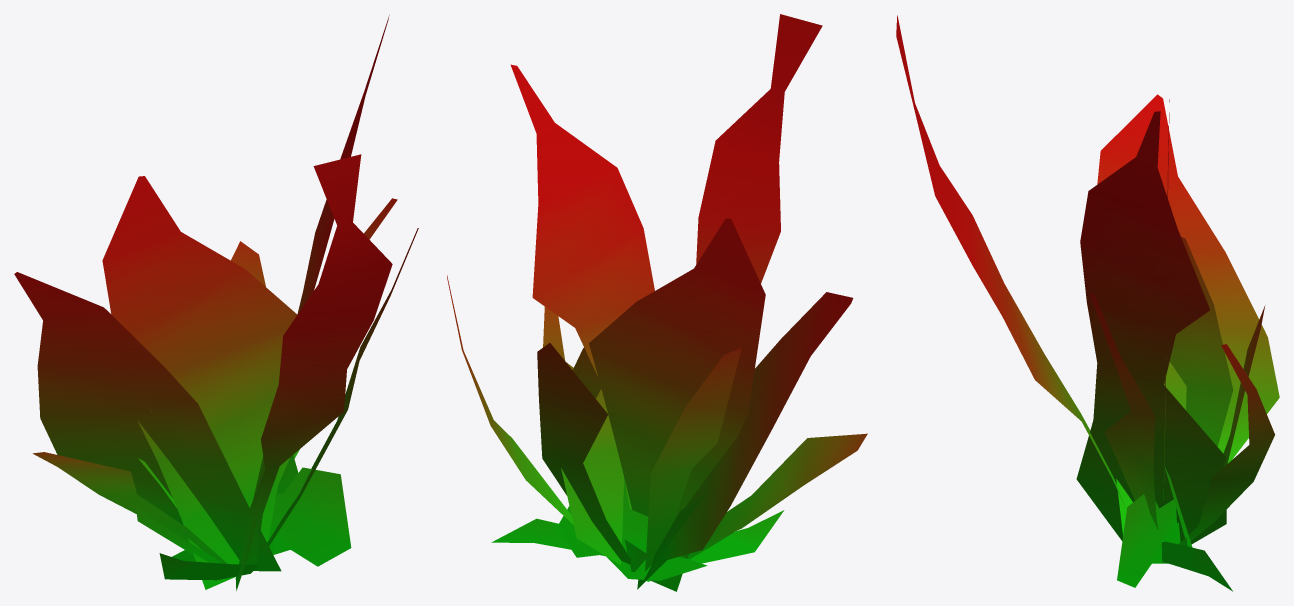
Rendered from tl2jbhcja_Var3_LOD0.fbx.
3 views of the same model, side by side, from view 1: azimuth 30°, elevation 25°; view 2: azimuth 150°, elevation 25°; view 3: azimuth 270°, elevation 25° (orthographic). The views are drawn at different scales.
Visible parts, largest first — view 1: _1236_Var3_LOD0; view 2: _1236_Var3_LOD0; view 3: _1236_Var3_LOD0.
Part boxes in pixels (x1,y1,x2,y2): _1236_Var3_LOD0: [14, 15, 418, 590]; _1236_Var3_LOD0: [447, 14, 867, 591]; _1236_Var3_LOD0: [896, 15, 1279, 591].
Bounding box in the file's own units: 30.9 × 38.05 × 25.11.
